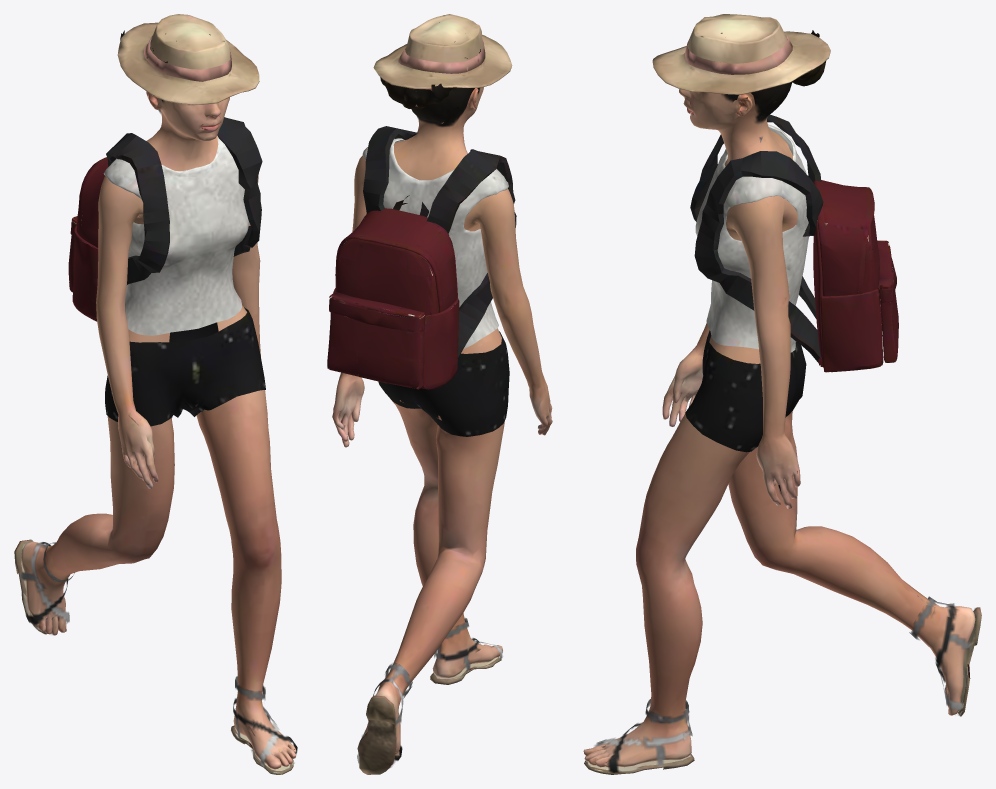
3 renders of one model, left to right at view 1: azimuth 30°, elevation 25°; view 2: azimuth 150°, elevation 25°; view 3: azimuth 270°, elevation 25°, orthographic. The views are drawn at different scales.
Parts seen in each view (by area): view 1: p01422; view 2: p01422; view 3: p01422.
Part boxes in pixels (left/top/right/bottom): p01422: left=14, top=14, right=297, bottom=774; p01422: left=327, top=14, right=552, bottom=774; p01422: left=583, top=14, right=981, bottom=774.
Size of the model in its own units: 0.4177 by 1.59 by 0.7892.
1 material, 1 textured.
